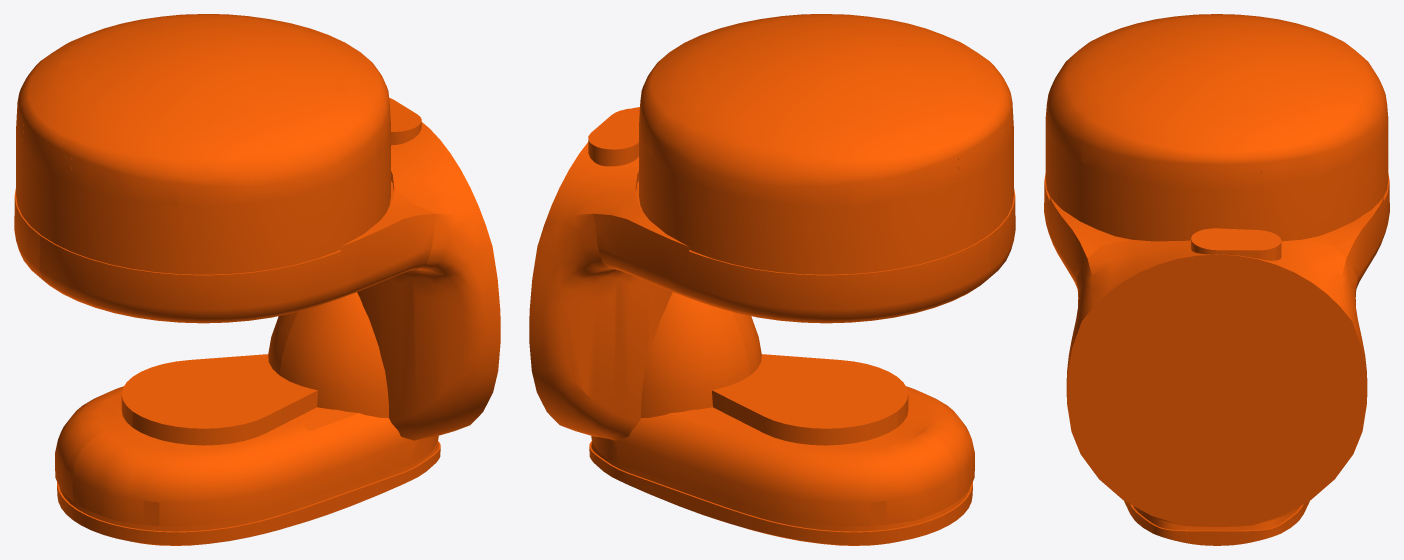
3 views of the same model, side by side, from view 1: azimuth 30°, elevation 25°; view 2: azimuth 150°, elevation 25°; view 3: azimuth 270°, elevation 25° (orthographic). The views are drawn at different scales.
Parts seen in each view (by area): view 1: prd00000015_oNWWNOk+++++3++-ID+HN_explode_1; view 2: prd00000015_oNWWNOk+++++3++-ID+HN_explode_1; view 3: prd00000015_oNWWNOk+++++3++-ID+HN_explode_1.
Boxes of the visible parts, x1,y1,x2,y2 form: prd00000015_oNWWNOk+++++3++-ID+HN_explode_1: (14,14,500,545); prd00000015_oNWWNOk+++++3++-ID+HN_explode_1: (529,14,1015,545); prd00000015_oNWWNOk+++++3++-ID+HN_explode_1: (1044,14,1389,545).
Size of the model in its own units: 0.2776 by 0.3249 by 0.2402.
